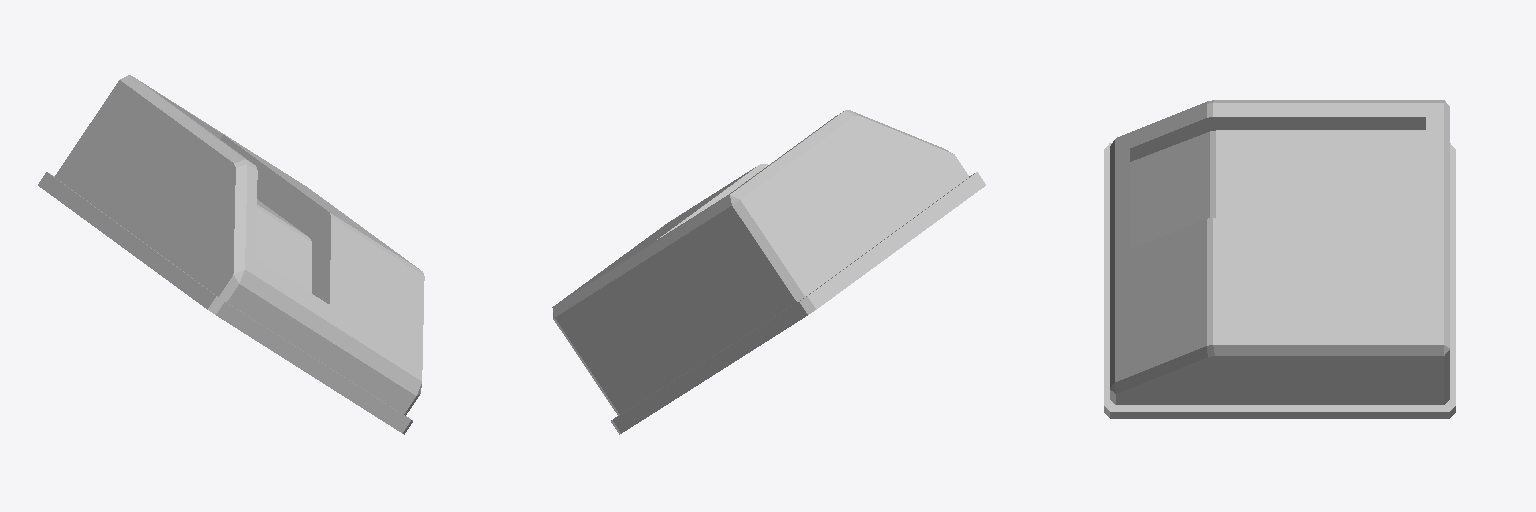
Rendered from Prop_4.obj.
The picture shows the model from 3 angles: view 1: azimuth 30°, elevation 25°; view 2: azimuth 150°, elevation 25°; view 3: azimuth 270°, elevation 25°; orthographic projection.
Parts seen in each view (by area): view 1: SM_SampleBuilding3.003; view 2: SM_SampleBuilding3.003; view 3: SM_SampleBuilding3.003.
Part boxes in pixels (x1,y1,x2,y2): SM_SampleBuilding3.003: (38,75,424,434); SM_SampleBuilding3.003: (552,110,985,434); SM_SampleBuilding3.003: (1104,100,1455,418).
Bounding box in the file's own units: 2.03 × 1.91 × 2.32.